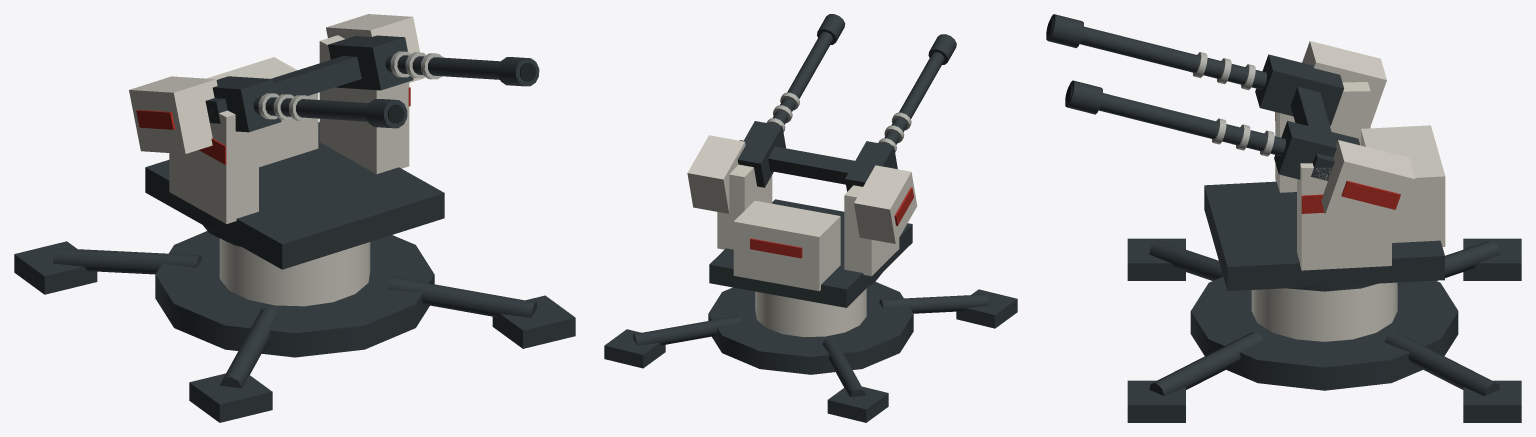
3 views of the same model, side by side, from view 1: azimuth 30°, elevation 25°; view 2: azimuth 150°, elevation 25°; view 3: azimuth 270°, elevation 25° (orthographic). The views are drawn at different scales.
Visible parts, largest first — view 1: aa-gun-auto-fleet-machine, turret-fleet-machine, turret-fleet-armor, elevation-fleet-armor, aa-gun-auto-fleet-armor, aa-barrel-right-fleet-machine, aa-barrel-left-fleet-machine, elevation-fleet-machine, aa-barrel-right-fleet-edge, aa-barrel-left-fleet-edge, elevation-fleet-red; view 2: aa-gun-auto-fleet-machine, turret-fleet-armor, elevation-fleet-armor, turret-fleet-machine, aa-gun-auto-fleet-armor, aa-barrel-right-fleet-machine, aa-barrel-left-fleet-machine, elevation-fleet-machine, turret-fleet-red, aa-barrel-left-fleet-edge, aa-barrel-right-fleet-edge; view 3: aa-gun-auto-fleet-machine, turret-fleet-armor, turret-fleet-machine, elevation-fleet-armor, aa-barrel-left-fleet-machine, aa-gun-auto-fleet-armor, aa-barrel-right-fleet-machine, elevation-fleet-machine, elevation-fleet-red, aa-barrel-right-fleet-edge, aa-barrel-left-fleet-edge.
Part boxes in pixels (left/top/right/bottom): aa-gun-auto-fleet-machine: left=14, top=225, right=575, bottom=422; turret-fleet-machine: left=145, top=122, right=444, bottom=269; turret-fleet-armor: left=169, top=35, right=409, bottom=223; elevation-fleet-armor: left=129, top=14, right=424, bottom=153; aa-gun-auto-fleet-armor: left=219, top=238, right=370, bottom=306; aa-barrel-right-fleet-machine: left=328, top=35, right=539, bottom=90; aa-barrel-left-fleet-machine: left=212, top=76, right=407, bottom=132; elevation-fleet-machine: left=205, top=56, right=361, bottom=123; aa-barrel-right-fleet-edge: left=390, top=51, right=443, bottom=79; aa-barrel-left-fleet-edge: left=258, top=93, right=311, bottom=121; elevation-fleet-red: left=136, top=110, right=175, bottom=129; aa-gun-auto-fleet-machine: left=604, top=273, right=1017, bottom=422; turret-fleet-armor: left=717, top=164, right=899, bottom=291; elevation-fleet-armor: left=687, top=135, right=917, bottom=243; turret-fleet-machine: left=709, top=199, right=912, bottom=307; aa-gun-auto-fleet-armor: left=755, top=288, right=866, bottom=336; aa-barrel-right-fleet-machine: left=737, top=14, right=845, bottom=187; aa-barrel-left-fleet-machine: left=845, top=34, right=956, bottom=191; elevation-fleet-machine: left=739, top=140, right=894, bottom=184; turret-fleet-red: left=750, top=238, right=802, bottom=258; aa-barrel-left-fleet-edge: left=878, top=112, right=911, bottom=152; aa-barrel-right-fleet-edge: left=766, top=92, right=799, bottom=132; aa-gun-auto-fleet-machine: left=1127, top=238, right=1521, bottom=422; turret-fleet-armor: left=1275, top=82, right=1445, bottom=270; turret-fleet-machine: left=1204, top=181, right=1444, bottom=291; elevation-fleet-armor: left=1302, top=41, right=1415, bottom=232; aa-barrel-left-fleet-machine: left=1046, top=14, right=1343, bottom=125; aa-gun-auto-fleet-armor: left=1251, top=282, right=1397, bottom=341; aa-barrel-right-fleet-machine: left=1065, top=80, right=1359, bottom=179; elevation-fleet-machine: left=1290, top=86, right=1334, bottom=180; elevation-fleet-red: left=1341, top=180, right=1400, bottom=209; aa-barrel-right-fleet-edge: left=1212, top=118, right=1274, bottom=156; aa-barrel-left-fleet-edge: left=1193, top=52, right=1255, bottom=90.
Size of the model in its own units: 16.77 by 14.29 by 20.23.
